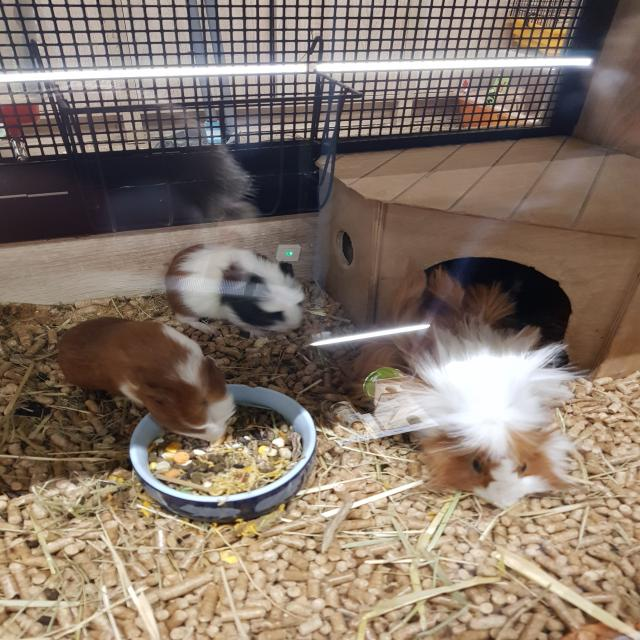guinea pig: (343, 326, 592, 508), (57, 314, 232, 444), (160, 241, 316, 341)
